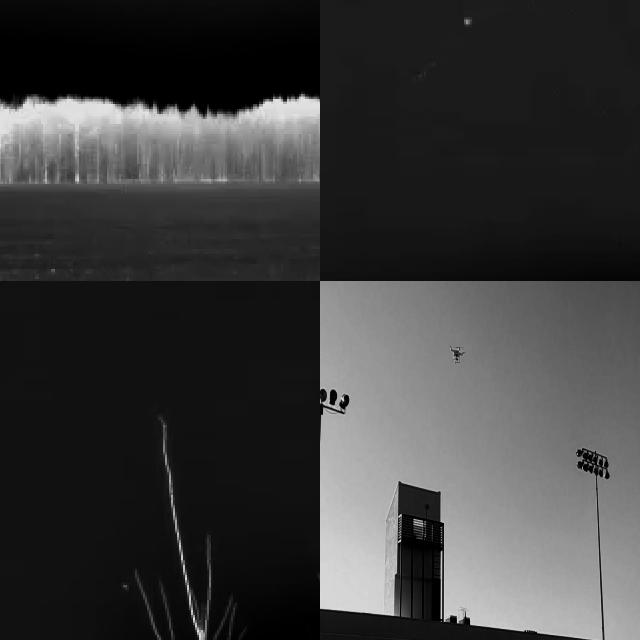0: (400, 62, 432, 92), (452, 13, 474, 36), (113, 578, 129, 602)
drone: (448, 340, 464, 365)
